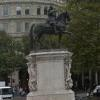Statue: (20, 3, 82, 55)
